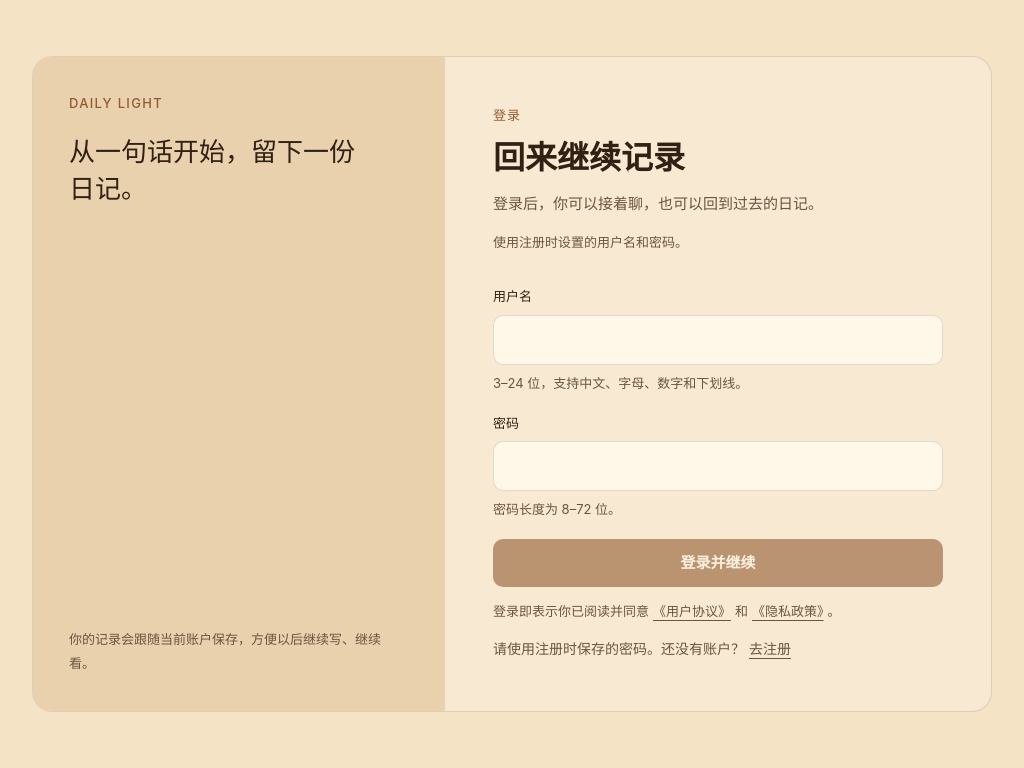
Scenario: auth page client navigation › shows a database-initialization hint when login storage is not ready
Type "daily_light_01" into the field labelled "用户名".
click(718, 340); type("daily_light_01")  # box [493, 315, 943, 365]
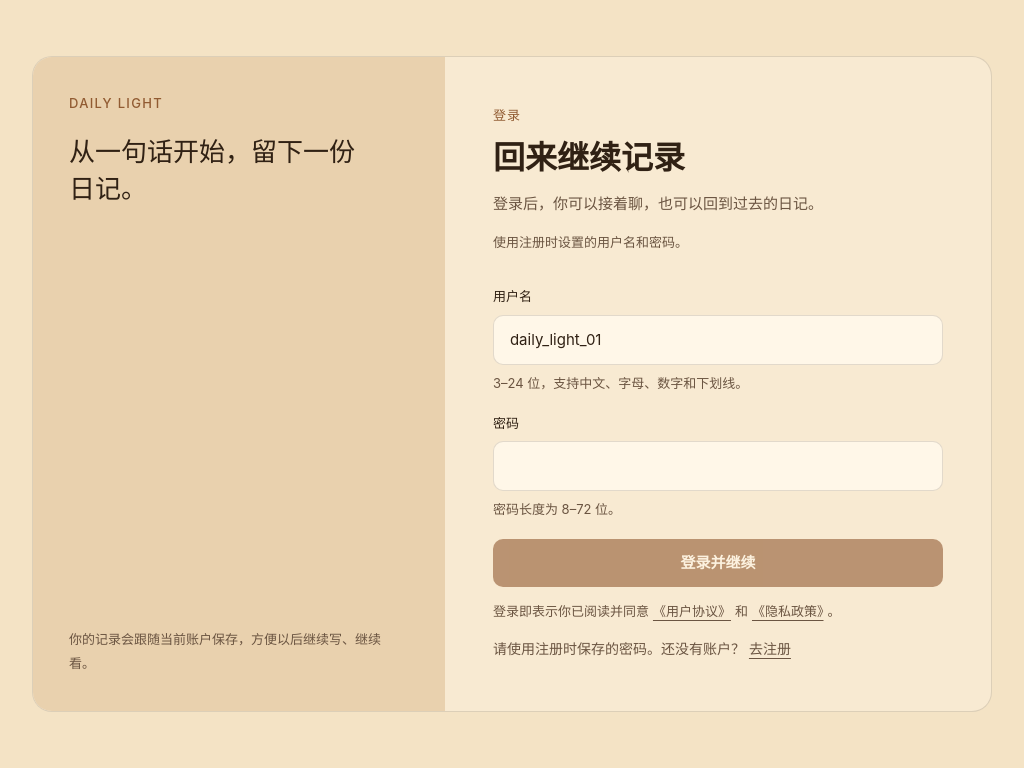
Type "supersecret1" into the password field labelled "密码".
click(718, 466); type("supersecret1")  # box [493, 441, 943, 491]
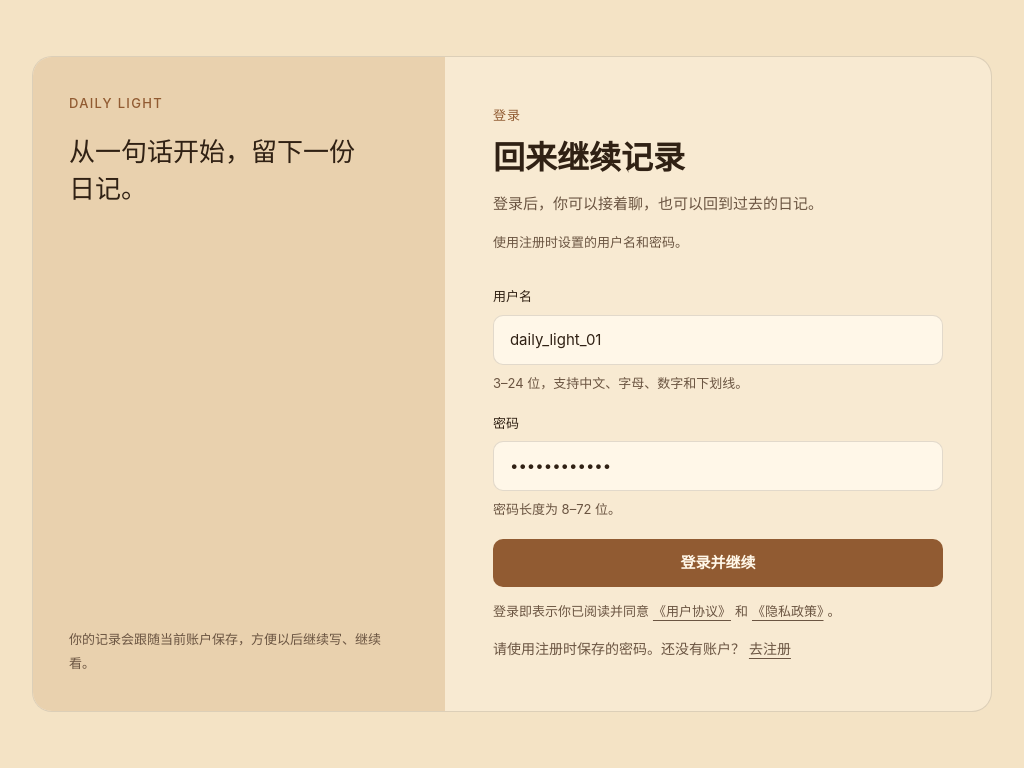
Click the button "登录并继续".
click(718, 563)  # box [493, 539, 943, 587]
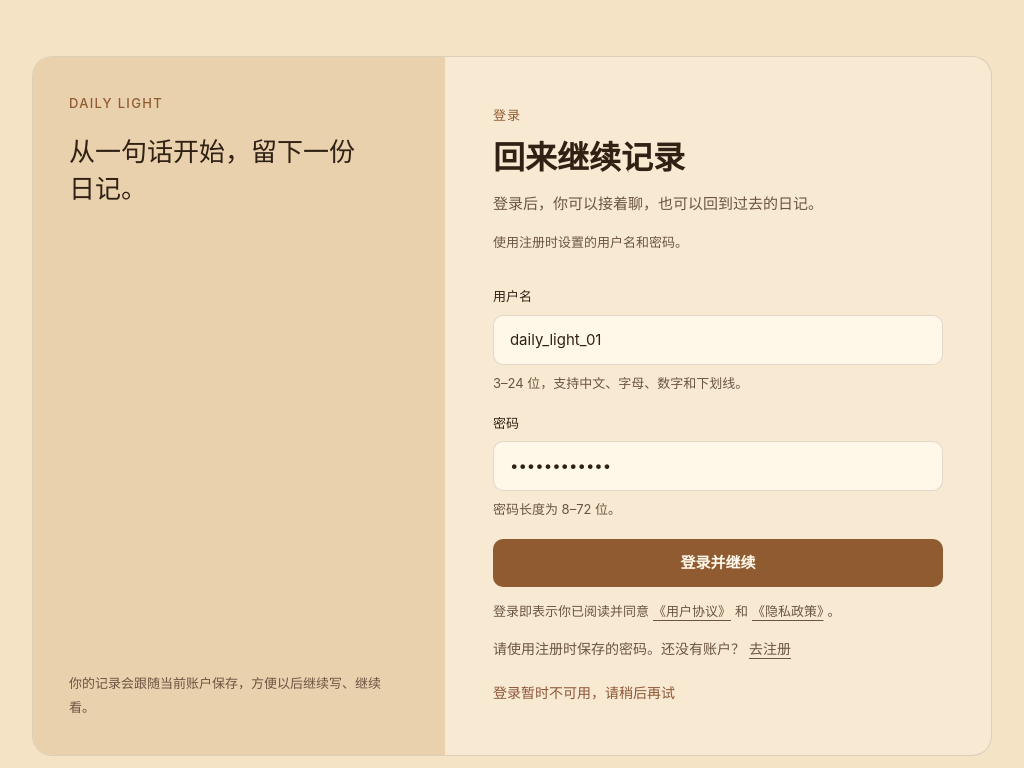
Check: the message reads "登录暂时不可用，请稍后再试", box [493, 684, 675, 701]
